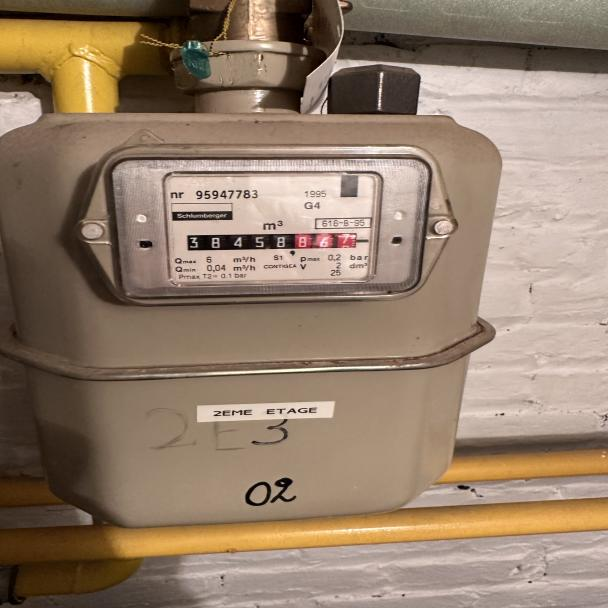3: (187, 234, 204, 252)
4: (231, 233, 248, 254)
5: (250, 232, 268, 251)
6: (314, 229, 338, 252)
7: (336, 230, 360, 252)
8: (270, 232, 293, 252), (208, 232, 229, 253), (296, 230, 314, 252)
cm: (296, 230, 359, 253)
counter: (184, 233, 296, 252)
